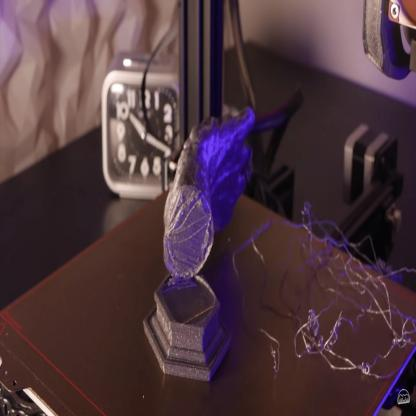fail: (269, 231, 403, 391)
